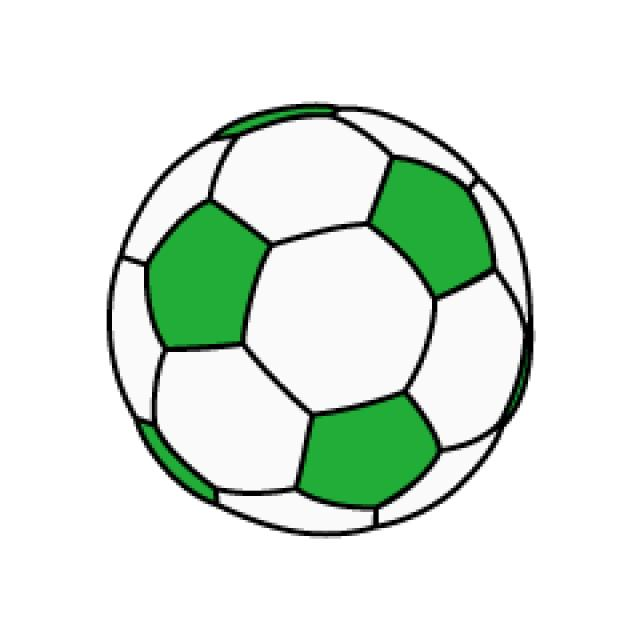soccer ball: (110, 96, 534, 539)
